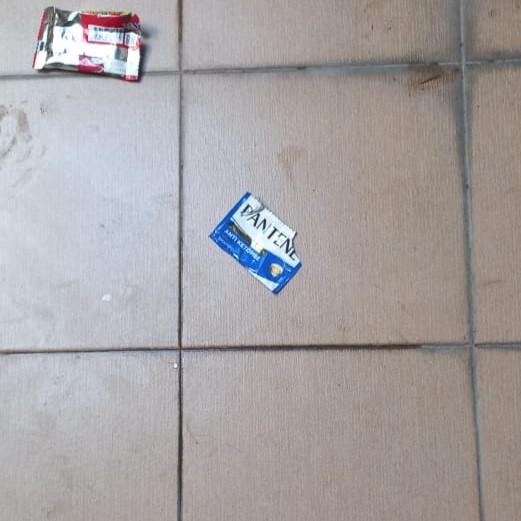Plastik: (209, 191, 303, 294), (32, 6, 141, 80)
